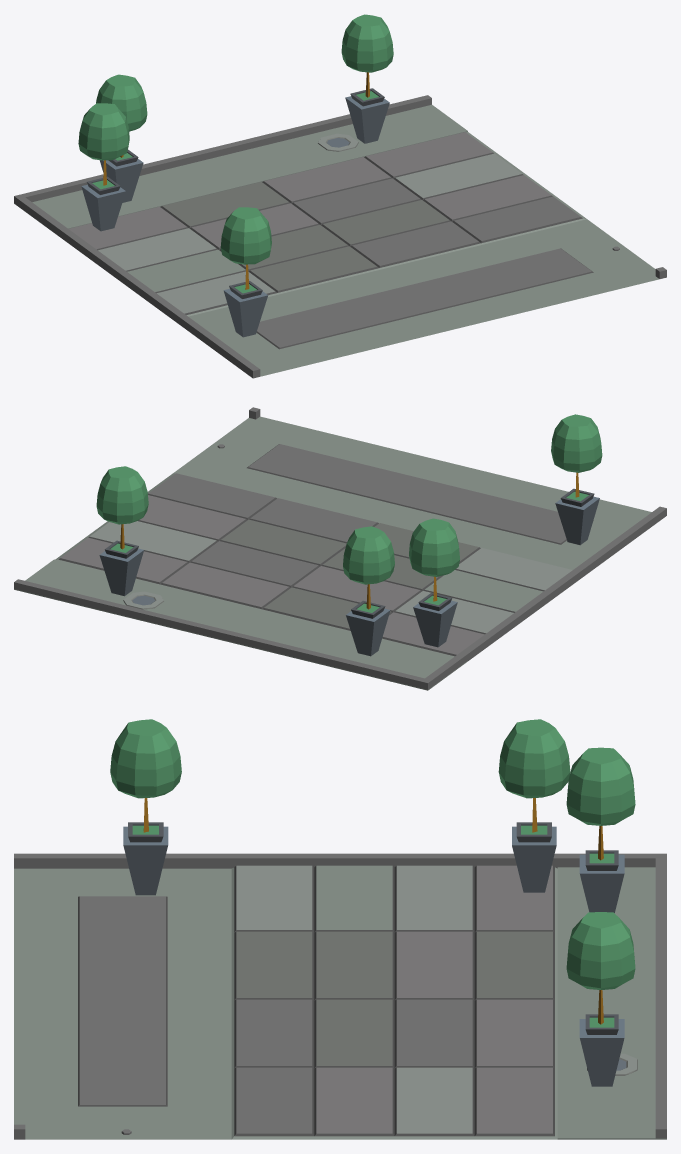
Rendered from Corner_C.gltf.
3 views of the same model, one above another, from view 1: azimuth 30°, elevation 25°; view 2: azimuth 150°, elevation 25°; view 3: azimuth 270°, elevation 25° (orthographic). The views are drawn at different scales.
Parts seen in each view (by area): view 1: Scifi_Panel_02 Plaza014_group4.018; view 2: Scifi_Panel_02 Plaza014_group4.018; view 3: Scifi_Panel_02 Plaza014_group4.018.
Part boxes in pixels (x1,y1,x2,y2): Scifi_Panel_02 Plaza014_group4.018: [14, 14, 666, 378]; Scifi_Panel_02 Plaza014_group4.018: [14, 407, 666, 690]; Scifi_Panel_02 Plaza014_group4.018: [14, 719, 666, 1139].
Size of what is drawn, in the model's own units: 10 by 2.77 by 10.
Materials: 1 (1 with a texture image).
